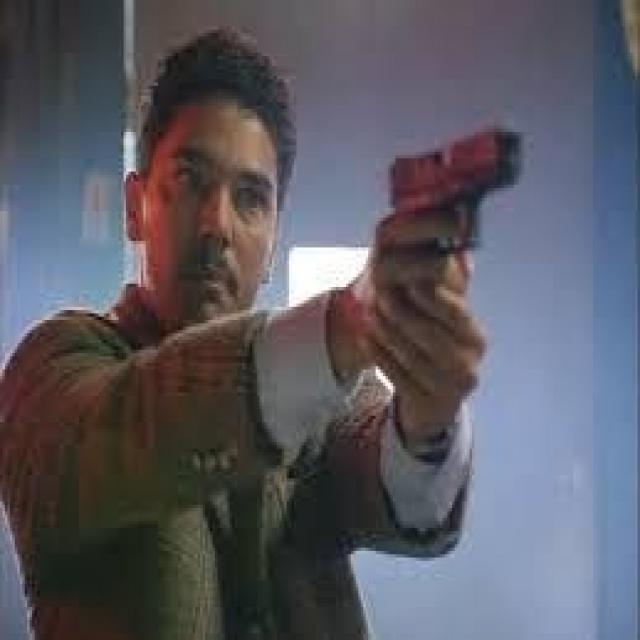gun: (386, 126, 520, 330)
